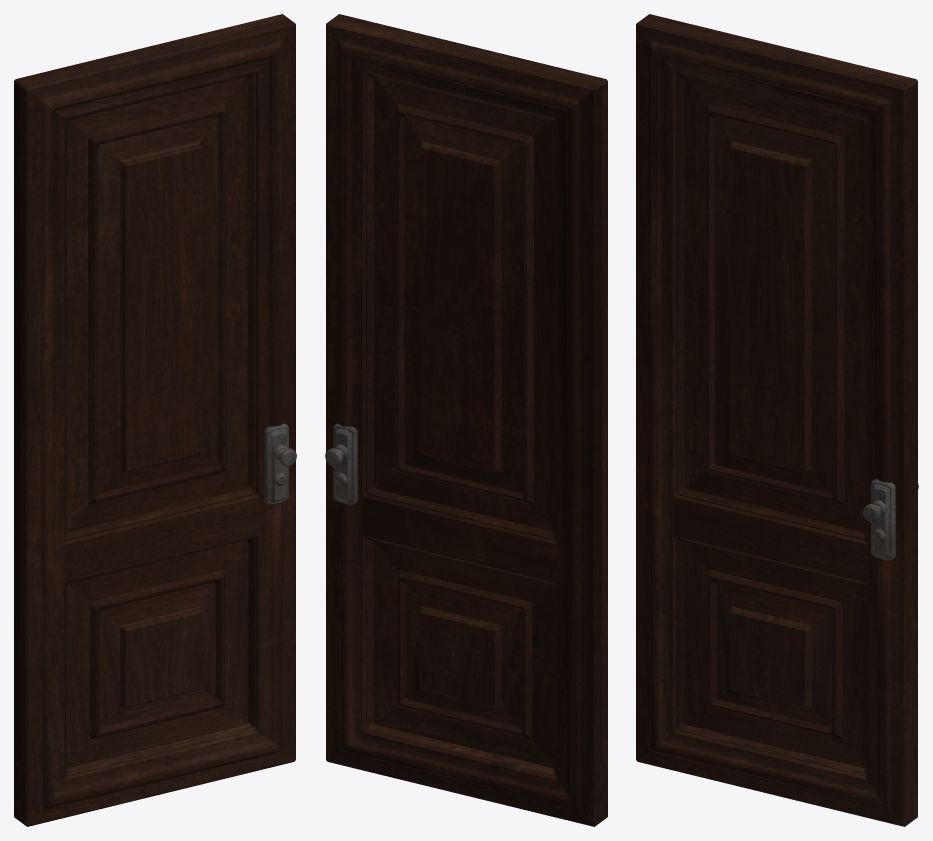
File: SK1 DOOR A.fbx
3 renders of one model, left to right at view 1: azimuth 30°, elevation 25°; view 2: azimuth 150°, elevation 25°; view 3: azimuth 330°, elevation 25°, orthographic.
Visible parts, largest first — view 1: SK1 DOOR A; view 2: SK1 DOOR A; view 3: SK1 DOOR A.
Boxes of the visible parts, box(x1,y1,x2,y2) form: SK1 DOOR A: box(14, 14, 296, 826); SK1 DOOR A: box(325, 14, 607, 826); SK1 DOOR A: box(636, 14, 918, 826).
Bounding box in the file's own units: 101 × 264 × 27.43.
